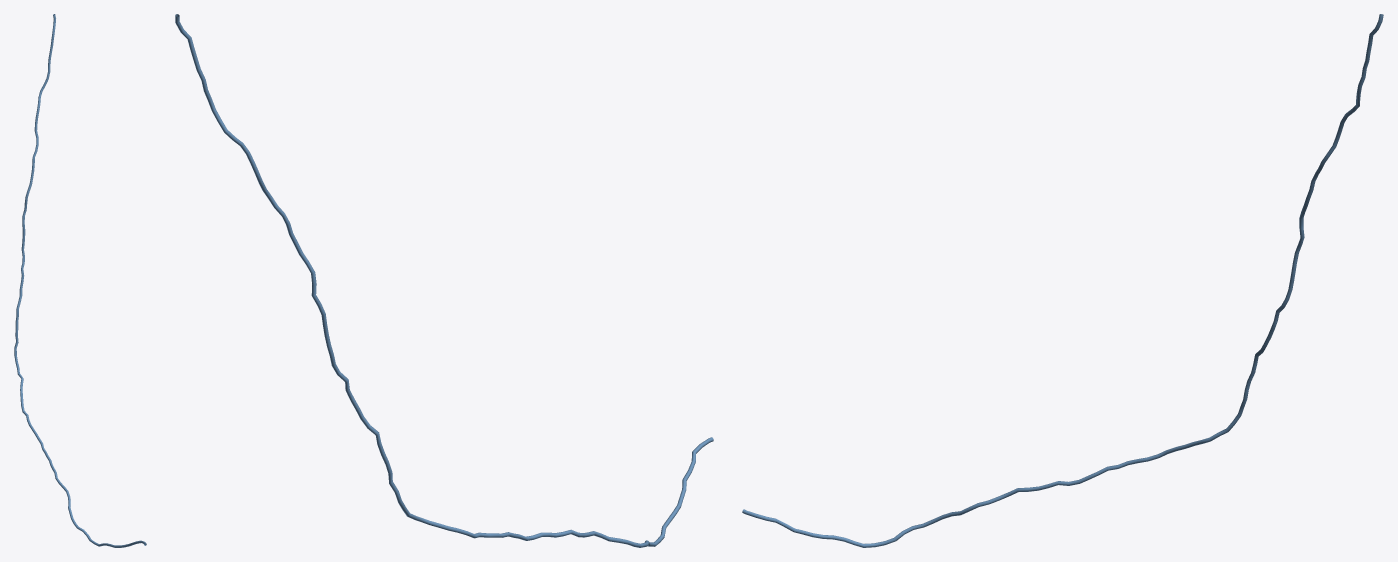
Rendered from sweep197.fbx.
3 renders of one model, left to right at view 1: azimuth 30°, elevation 25°; view 2: azimuth 150°, elevation 25°; view 3: azimuth 270°, elevation 25°, orthographic. The views are drawn at different scales.
Parts seen in each view (by area): view 1: sweep197; view 2: sweep197; view 3: sweep197.
Part boxes in pixels (<box>): sweep197: <box>14,14,146,547</box>; sweep197: <box>175,14,713,547</box>; sweep197: <box>742,14,1383,547</box>.
Size of the model in its own units: 1.11 by 3.32 by 3.09.
